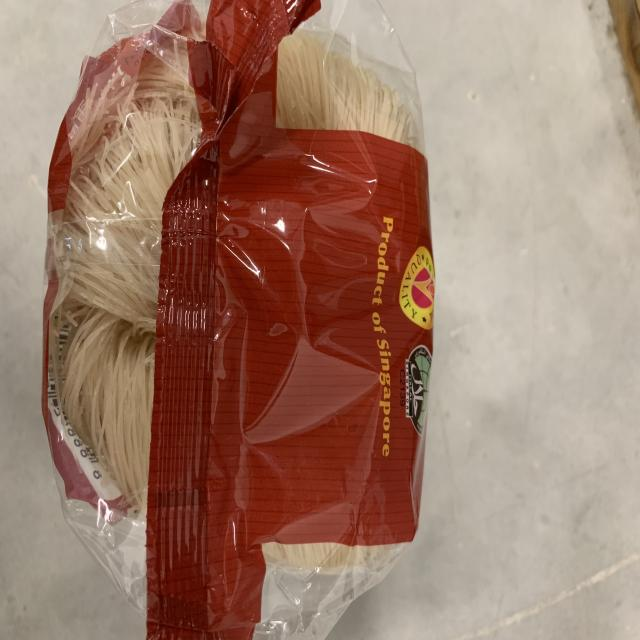object_name: (70, 55, 421, 587)
